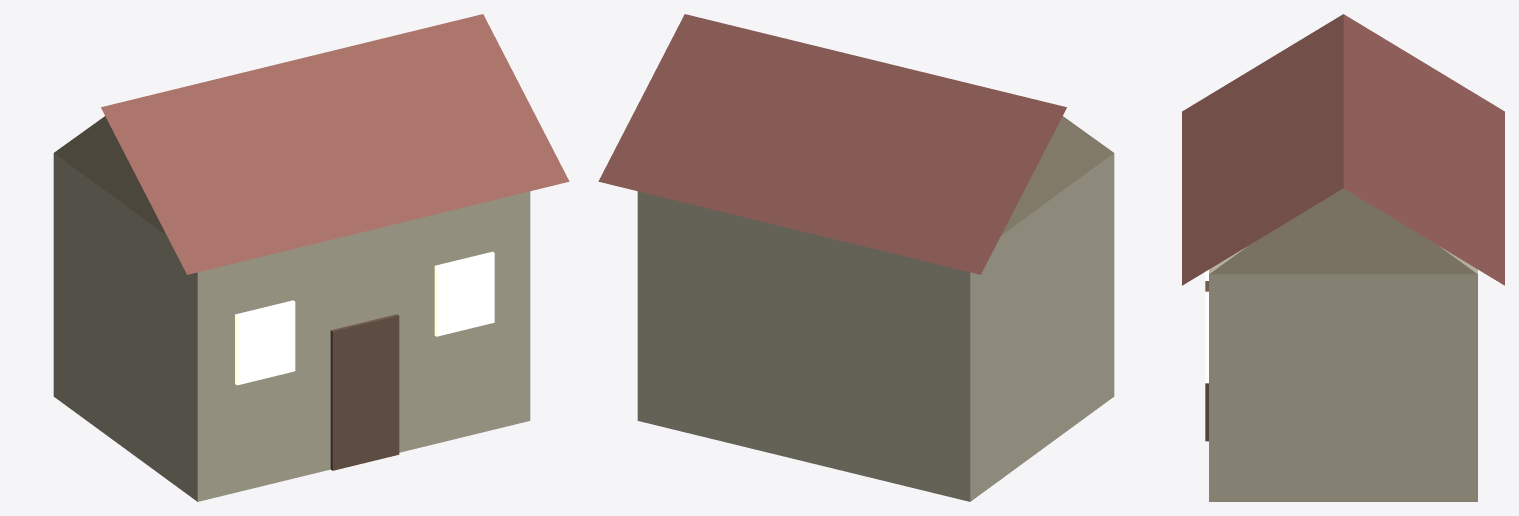
Rendered from house.gltf.
The picture shows the model from 3 angles, left to right: view 1: azimuth 30°, elevation 25°; view 2: azimuth 150°, elevation 25°; view 3: azimuth 270°, elevation 25°; orthographic projection. The views are drawn at different scales.
Visible parts, largest first — view 1: node1; view 2: node1; view 3: node1.
Part boxes in pixels (x1,y1,x2,y2): node1: (53, 14, 569, 501); node1: (598, 14, 1114, 501); node1: (1182, 14, 1504, 501).
Size of the model in its own units: 4.6 by 4 by 3.6.
